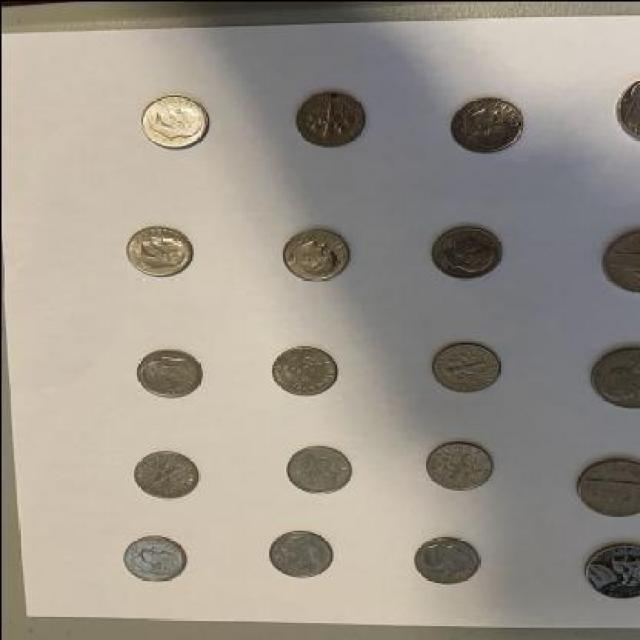Dime: (443, 84, 528, 156), (286, 85, 372, 146), (134, 88, 214, 152), (425, 218, 503, 282), (428, 338, 503, 396), (120, 222, 194, 280), (280, 224, 351, 284), (420, 438, 496, 492), (132, 343, 203, 400), (284, 441, 356, 497), (268, 341, 338, 397), (412, 534, 480, 586), (264, 528, 334, 578), (132, 448, 198, 500), (121, 534, 188, 583)
Nickel: (572, 451, 638, 518), (584, 338, 640, 407), (578, 540, 638, 600), (598, 214, 638, 300)
